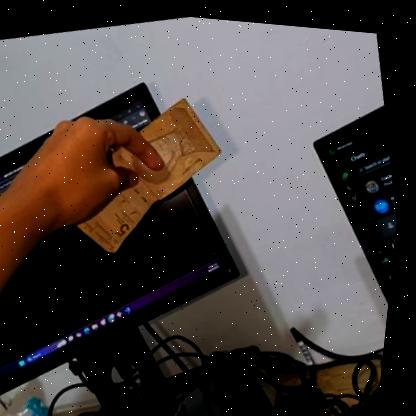five-front-vef: (51, 78, 247, 266)
